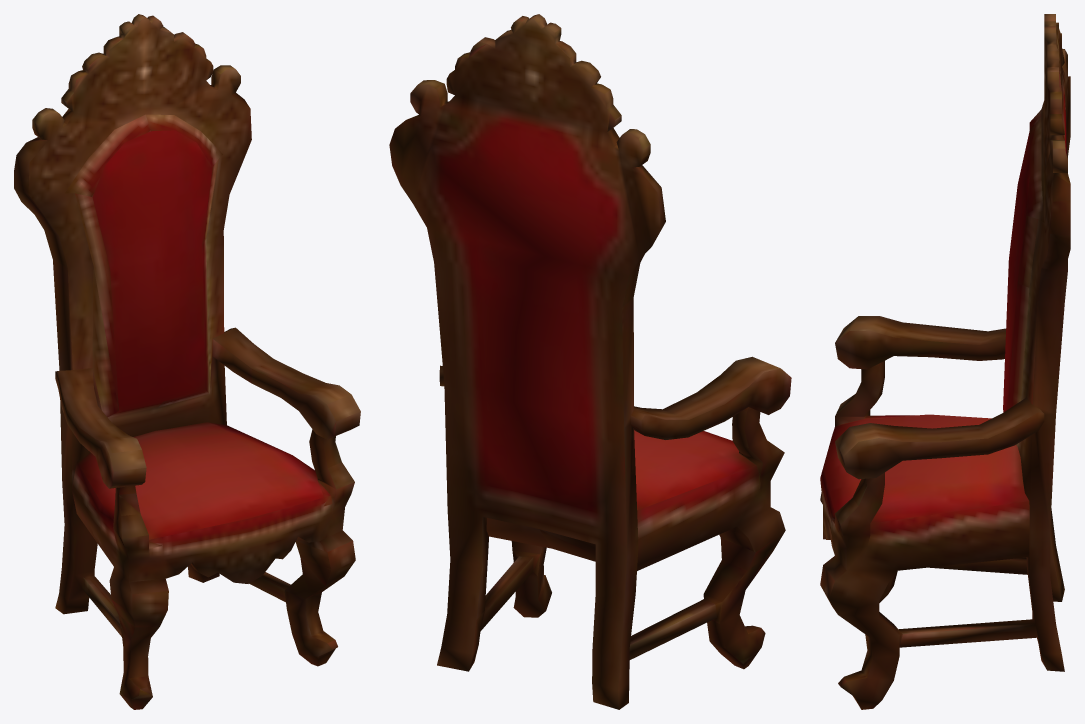
File: wyn_furn_highback_chair.glb
3 renders of one model, left to right at view 1: azimuth 30°, elevation 25°; view 2: azimuth 150°, elevation 25°; view 3: azimuth 270°, elevation 25°, orthographic. The views are drawn at different scales.
Parts seen in each view (by area): view 1: tripo_node_fc333d6c-31bf-4e8c-a0b8-9a70a515bad0; view 2: tripo_node_fc333d6c-31bf-4e8c-a0b8-9a70a515bad0; view 3: tripo_node_fc333d6c-31bf-4e8c-a0b8-9a70a515bad0.
Boxes of the visible parts, left/top/right/bottom form: tripo_node_fc333d6c-31bf-4e8c-a0b8-9a70a515bad0: left=14, top=14, right=360, bottom=709; tripo_node_fc333d6c-31bf-4e8c-a0b8-9a70a515bad0: left=389, top=14, right=791, bottom=709; tripo_node_fc333d6c-31bf-4e8c-a0b8-9a70a515bad0: left=820, top=14, right=1070, bottom=709.
Bounding box in the file's own units: 0.6411 × 1.5 × 0.5291.
Materials: 1 (1 with a texture image).
